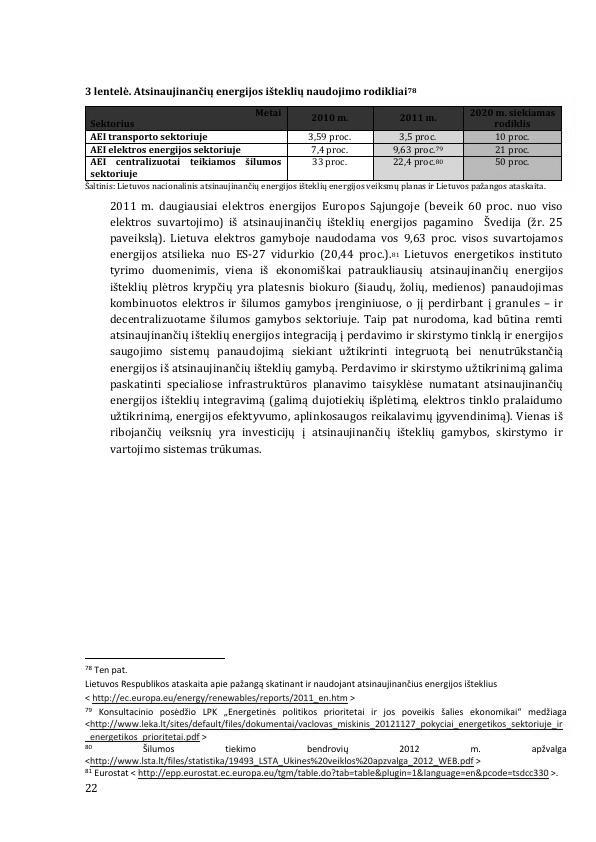table: (83, 104, 565, 183)
text: (108, 198, 568, 464), (82, 662, 571, 782), (82, 82, 421, 97)
